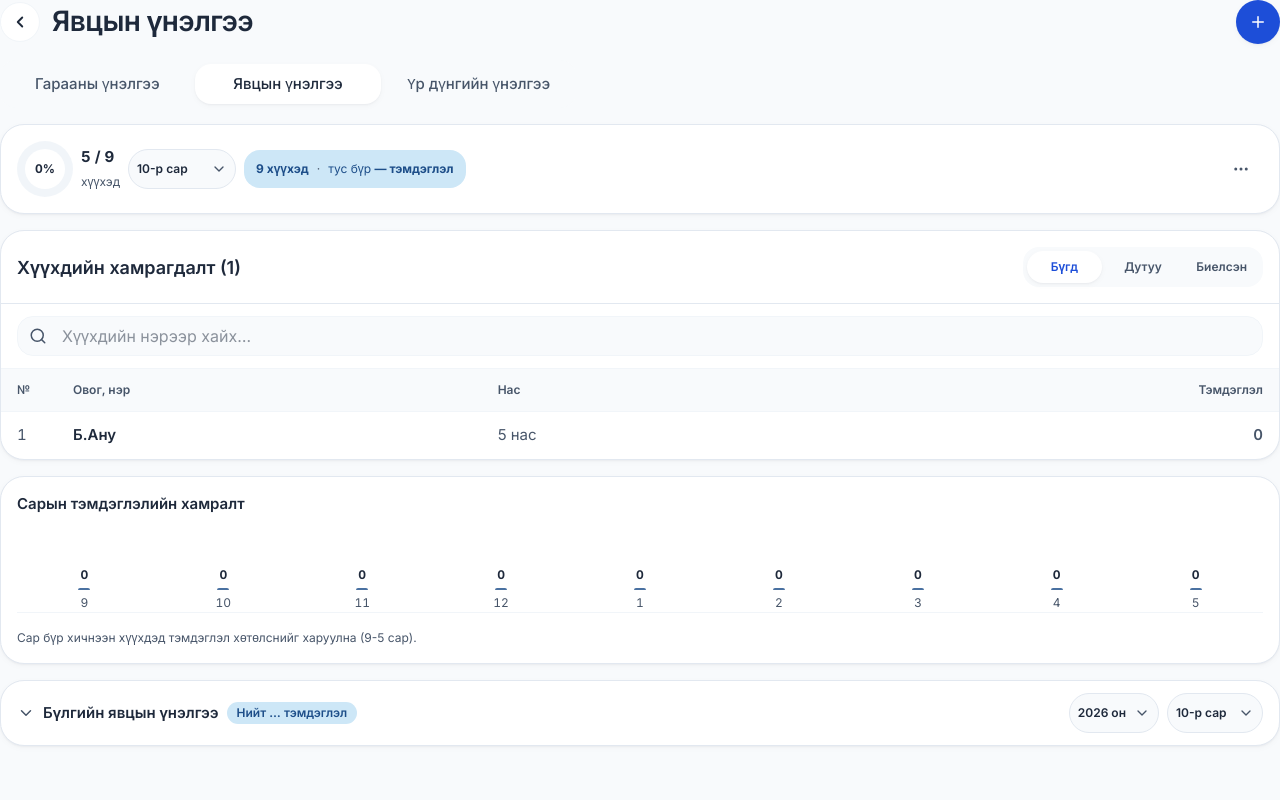
Test: the new-record strip › opens the child roster directly from the write button
The width and height of the screenshot is (1280, 800).
Step 1. Click the button named "Явцын үнэлгээ бичих" → (1258, 22), box [1236, 0, 1279, 44]
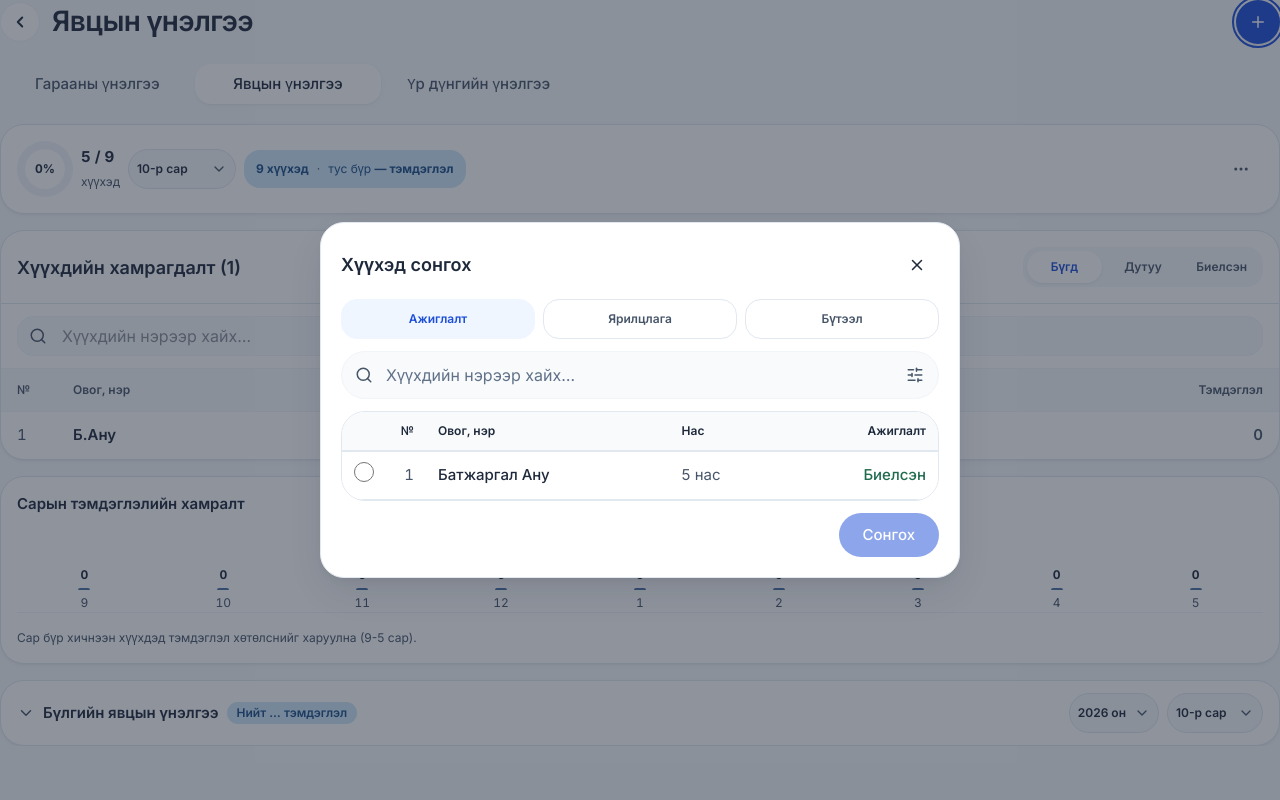
Result: the radio button named "Батжаргал Ану" is shown at [354, 462, 374, 482]
Result: the search field labelled "Хүүхдийн нэрээр хайх" is shown at [341, 351, 939, 399]
